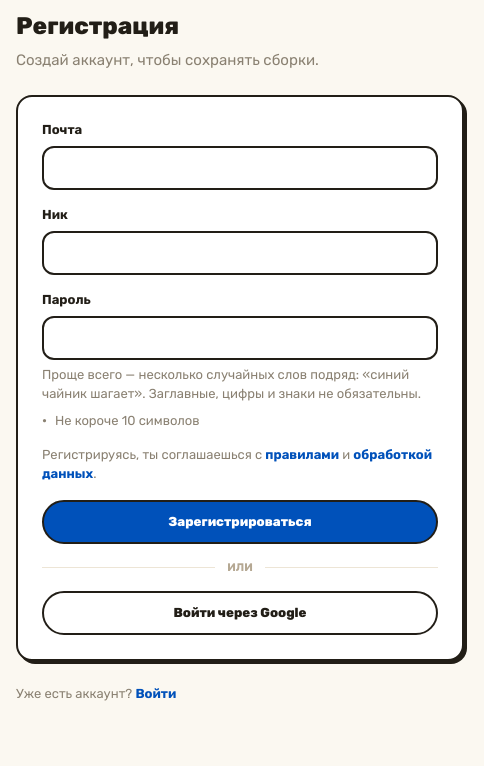
Test case: RegisterPage — поле «Ник» › показывает «имя занято», когда сервер отвечает HANDLE_TAKEN
Type "test@example.com" into the field labelled "Почта" at (240, 168), box [42,146,438,190]
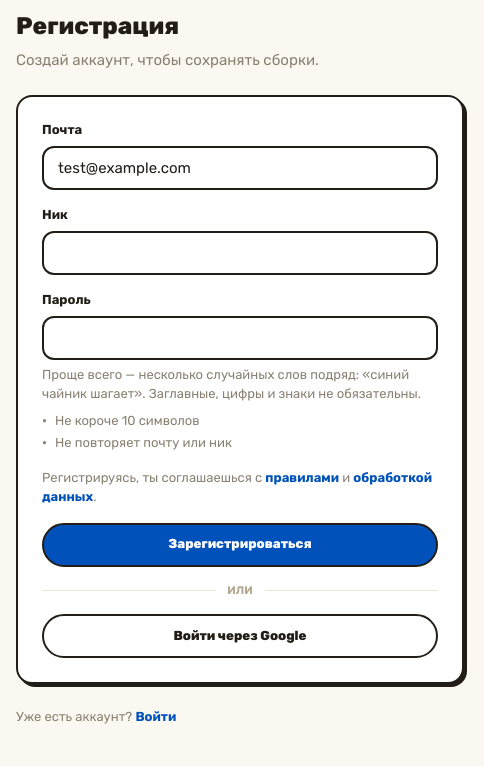
Type "TakenHandle" into the field labelled "Ник" at (240, 253), box [42,231,438,275]
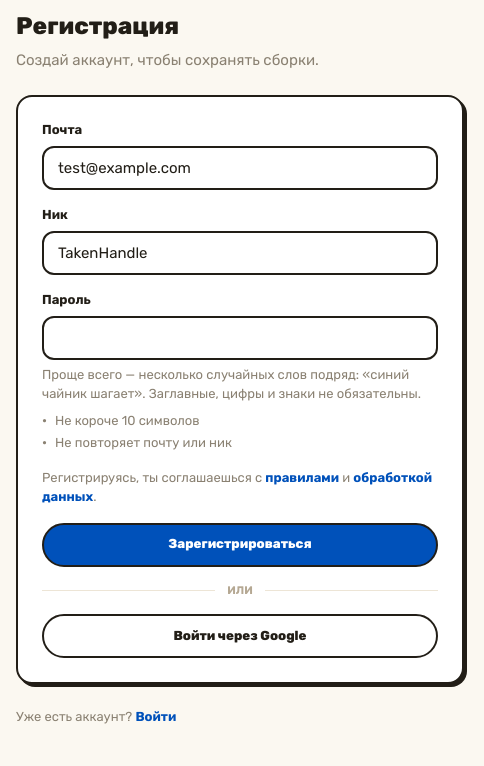
Type "verysecret1" into the password field labelled "Пароль" at (240, 338), box [42,316,438,360]
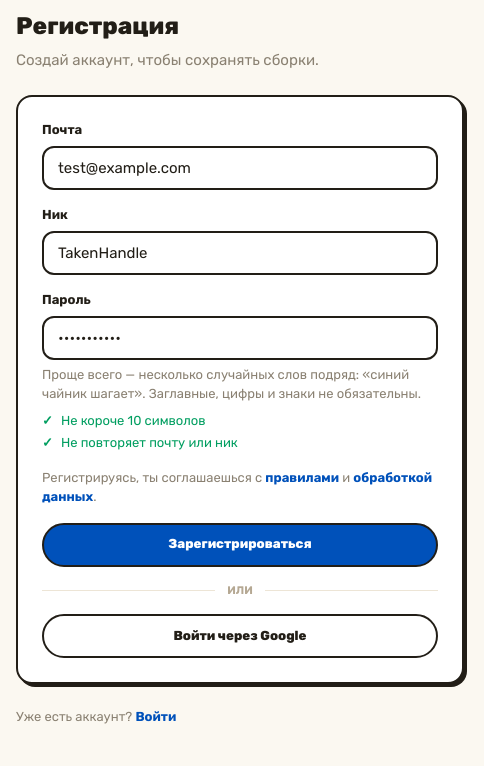
Click the button "Зарегистрироваться" at (240, 545), box [42,523,438,567]
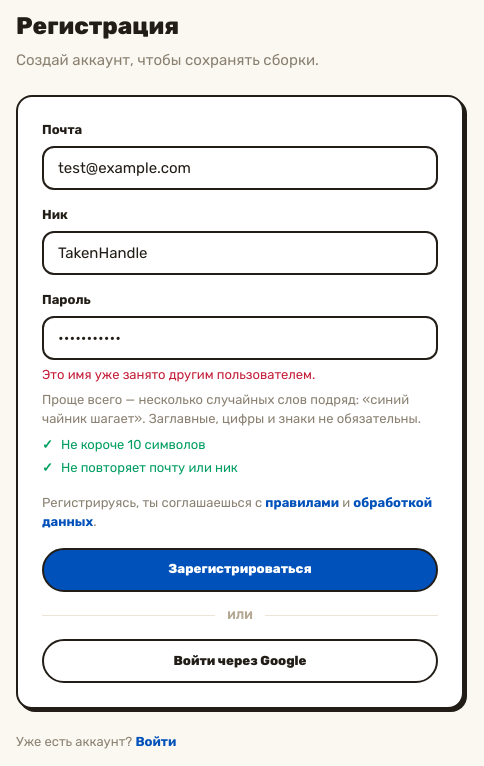
Expected: the text "Это имя уже занято другим пользователем." is shown, [42,367,315,382]
